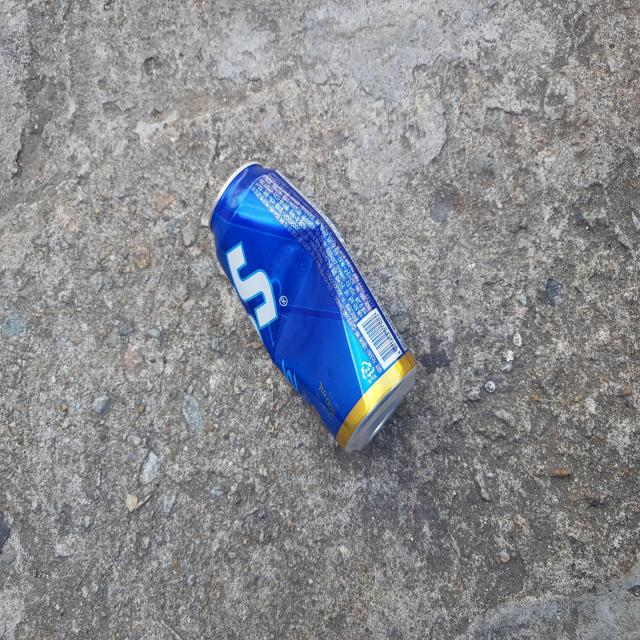can: (209, 161, 417, 452)
